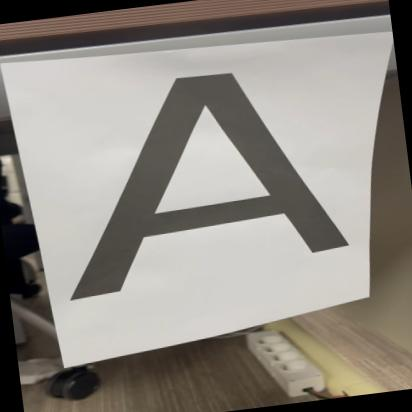seat: (39, 50, 368, 300)
